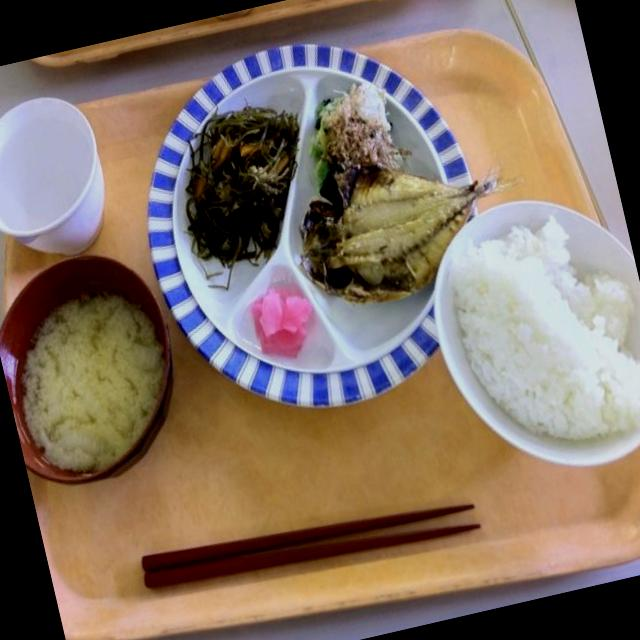Rice: (438, 204, 640, 464)
